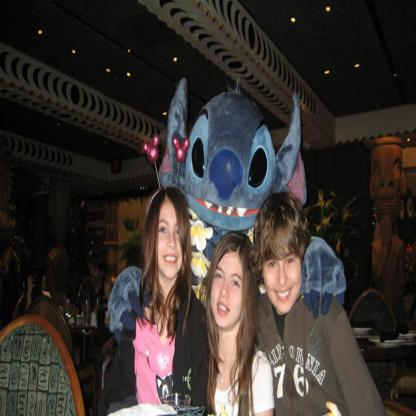face: (264, 242, 304, 314), (211, 254, 247, 327), (156, 202, 185, 278), (91, 264, 102, 284), (402, 177, 408, 193)
